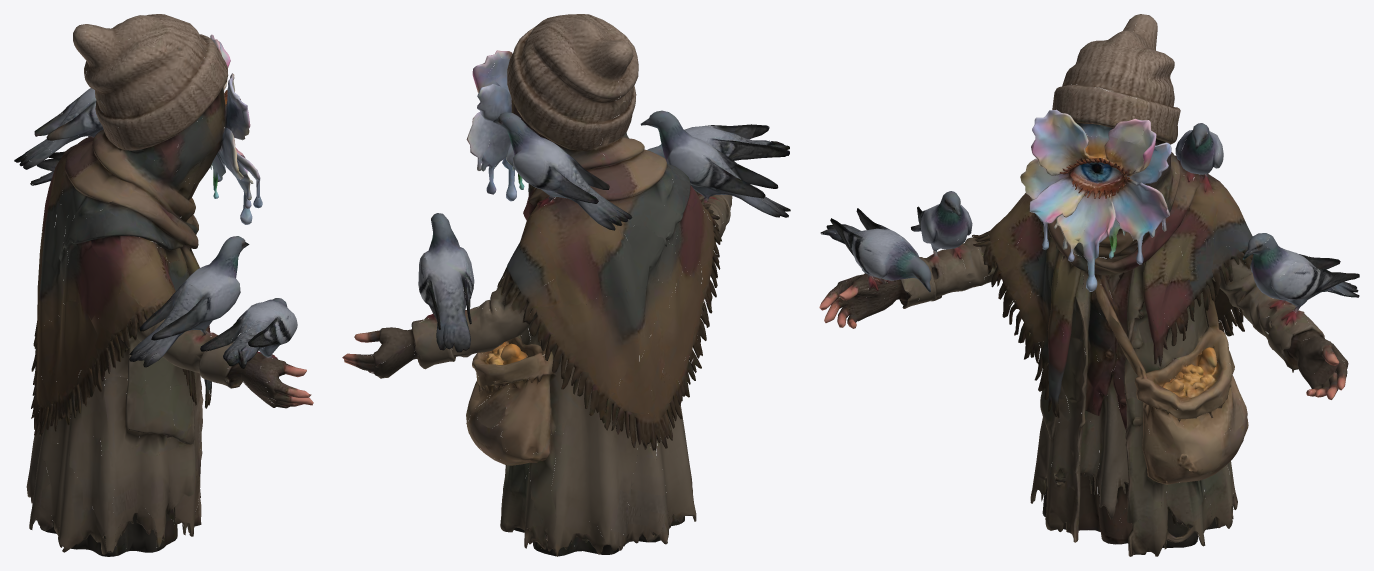
File: pigeonlady.glb
3 renders of one model, left to right at view 1: azimuth 30°, elevation 25°; view 2: azimuth 150°, elevation 25°; view 3: azimuth 270°, elevation 25°, orthographic.
Parts seen in each view (by area): view 1: tripo_node_4e3db428-c458-4de0-a6a6-46ae99515e8d; view 2: tripo_node_4e3db428-c458-4de0-a6a6-46ae99515e8d; view 3: tripo_node_4e3db428-c458-4de0-a6a6-46ae99515e8d.
Boxes of the visible parts, x1=… form: tripo_node_4e3db428-c458-4de0-a6a6-46ae99515e8d: x1=14, y1=14, x2=313, y2=556; tripo_node_4e3db428-c458-4de0-a6a6-46ae99515e8d: x1=342, y1=14, x2=790, y2=556; tripo_node_4e3db428-c458-4de0-a6a6-46ae99515e8d: x1=819, y1=14, x2=1359, y2=556.
Size of the model in its own units: 0.5198 by 1 by 0.9919.
Materials: 1 (1 with a texture image).
